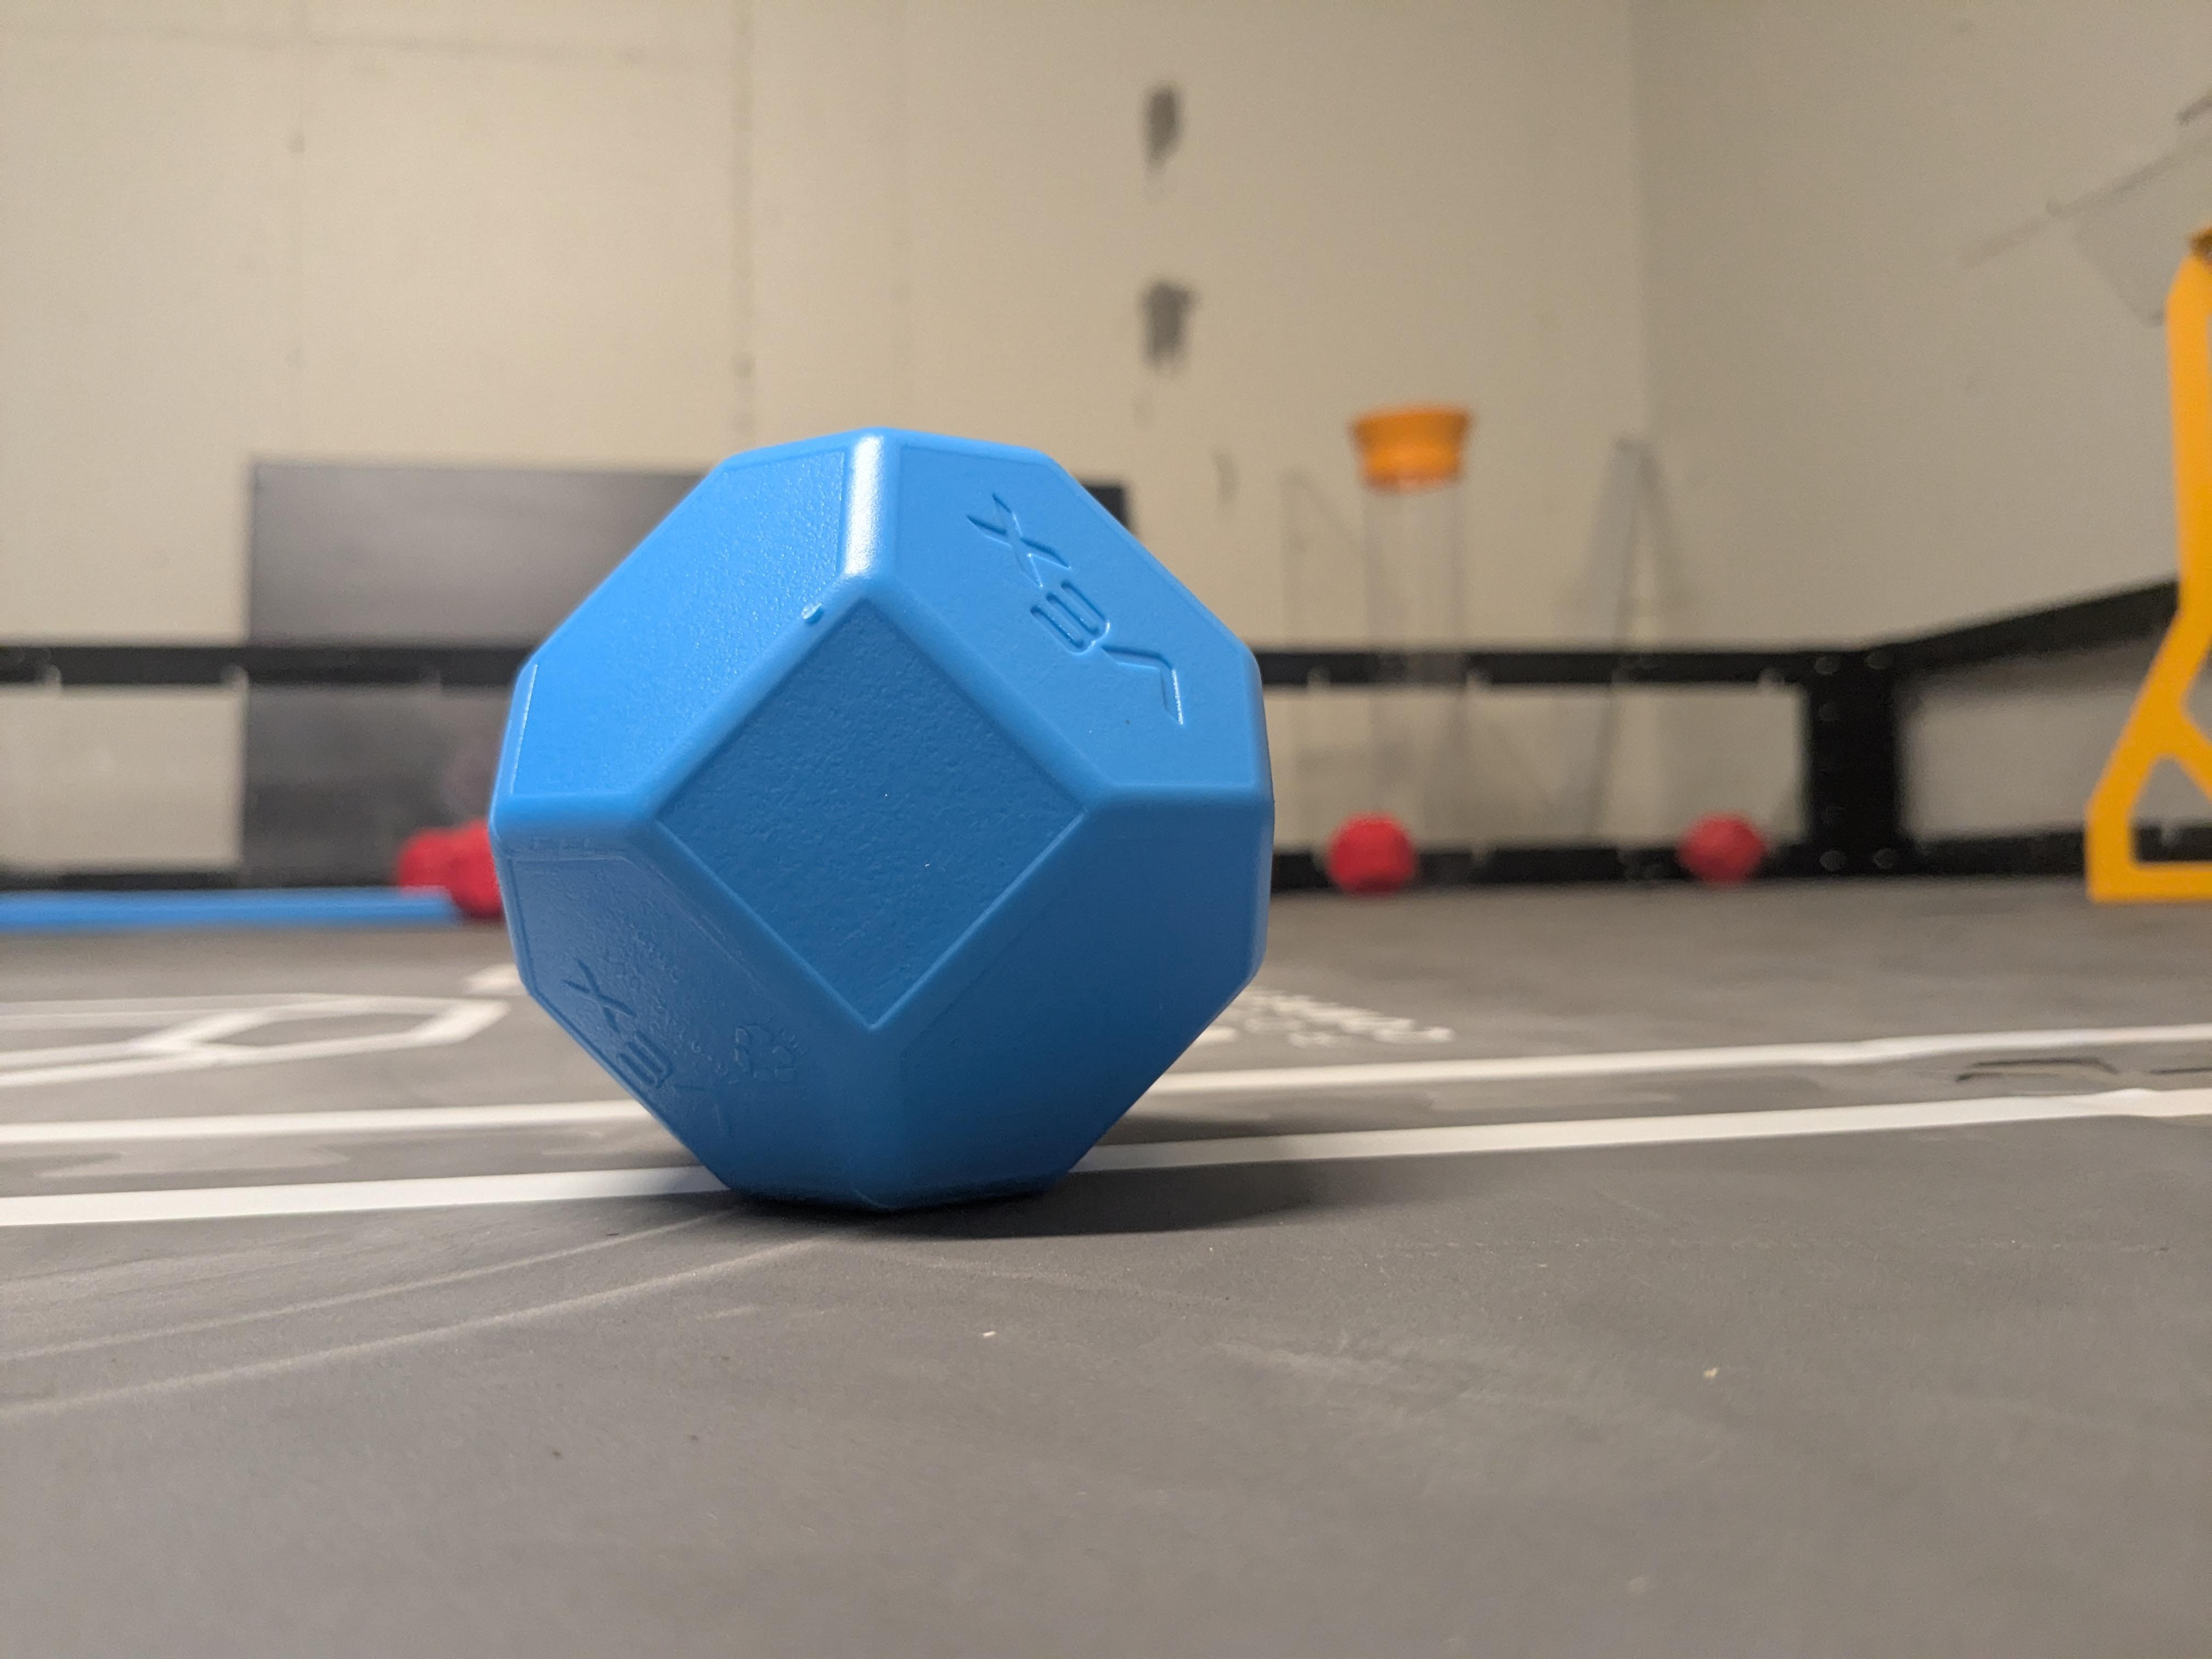Vex-Pieces-BLUE: (489, 429, 1273, 1208)
